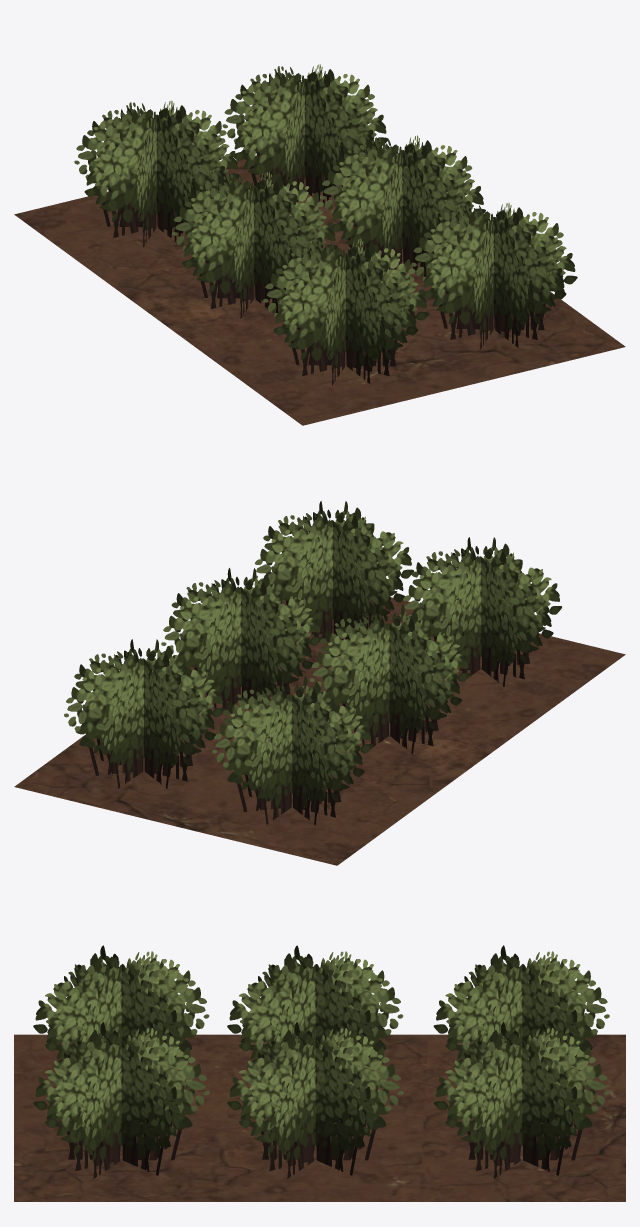
File: ARC0710058.fbx
3 views of the same model, one above another, from view 1: azimuth 30°, elevation 25°; view 2: azimuth 150°, elevation 25°; view 3: azimuth 270°, elevation 25° (orthographic). The views are drawn at different scales.
Visible parts, largest first — view 1: smARC0710058; view 2: smARC0710058; view 3: smARC0710058.
Boxes of the visible parts, <box> form: smARC0710058: <box>14,64,625,425</box>; smARC0710058: <box>14,501,625,865</box>; smARC0710058: <box>14,945,625,1201</box>.
Size of the model in its own units: 101 by 46.32 by 156.
Materials: 1 (1 with a texture image).
